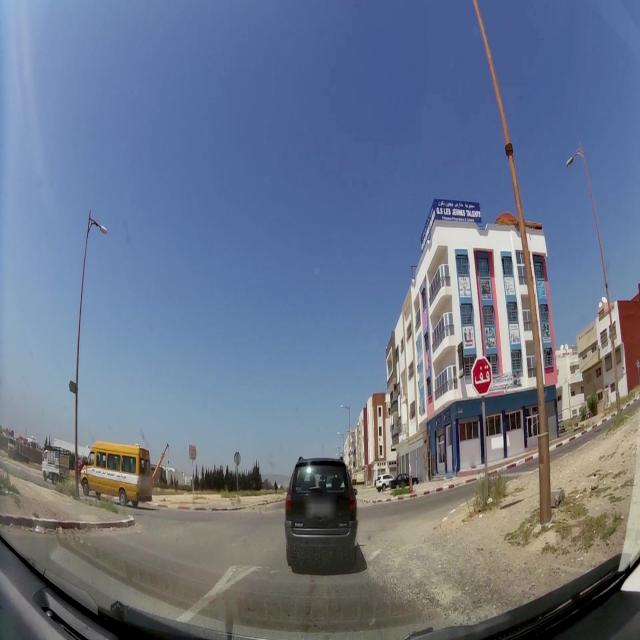car: (284, 454, 358, 570), (376, 473, 396, 491)
